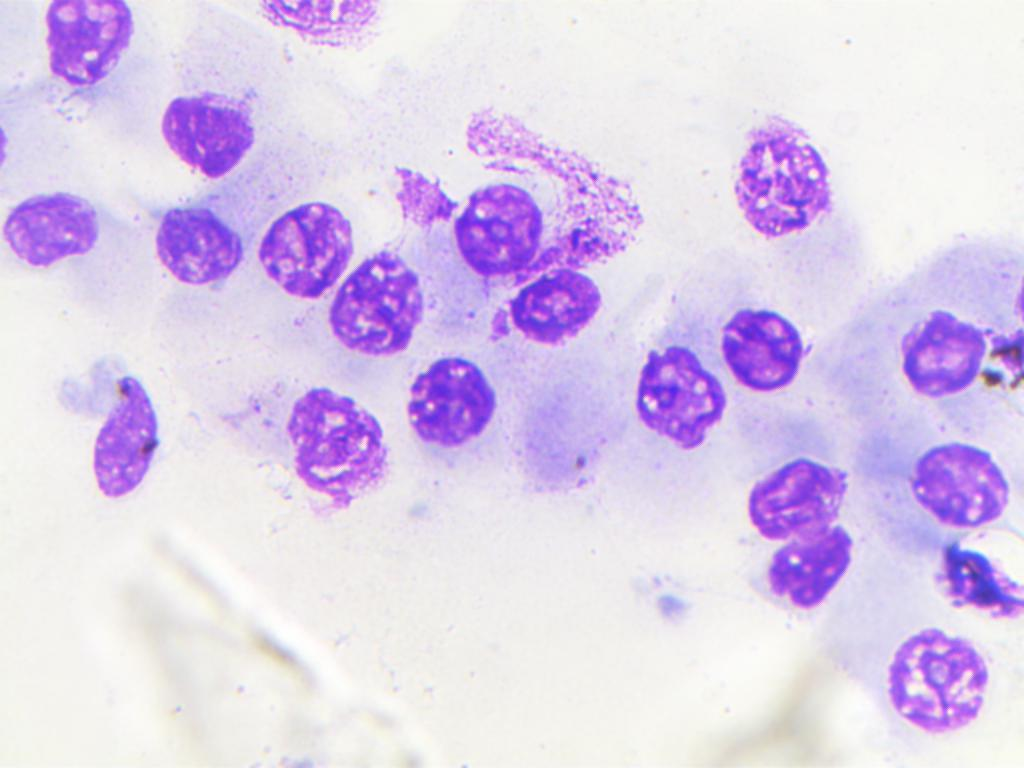epithelial: (226, 361, 382, 515), (701, 100, 853, 256), (875, 611, 999, 741), (237, 172, 355, 298), (72, 360, 166, 513), (903, 423, 1023, 535), (325, 235, 428, 358), (492, 260, 610, 359), (626, 339, 722, 457), (745, 445, 859, 538), (155, 77, 251, 185), (147, 191, 243, 299), (719, 288, 815, 396), (888, 293, 984, 401), (403, 345, 499, 453), (754, 524, 857, 616), (443, 180, 542, 272), (42, 0, 138, 81), (3, 191, 99, 264)
